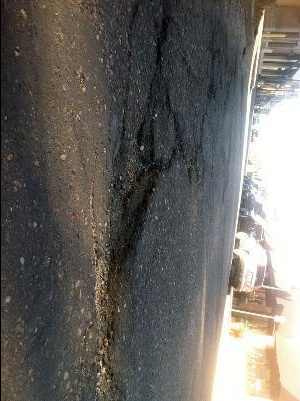pothole: (91, 128, 164, 324), (93, 337, 119, 400)
